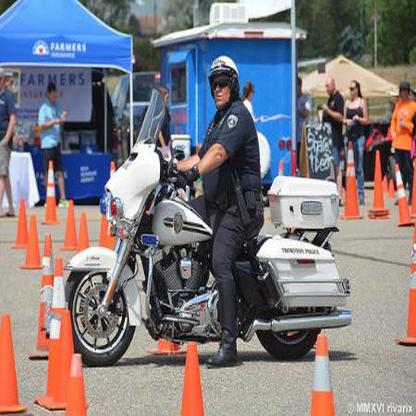target: (63, 53, 361, 369)
